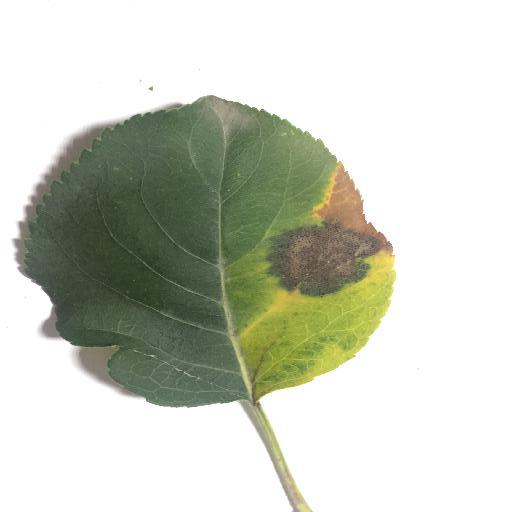Brown_Spot: (261, 169, 397, 293)
